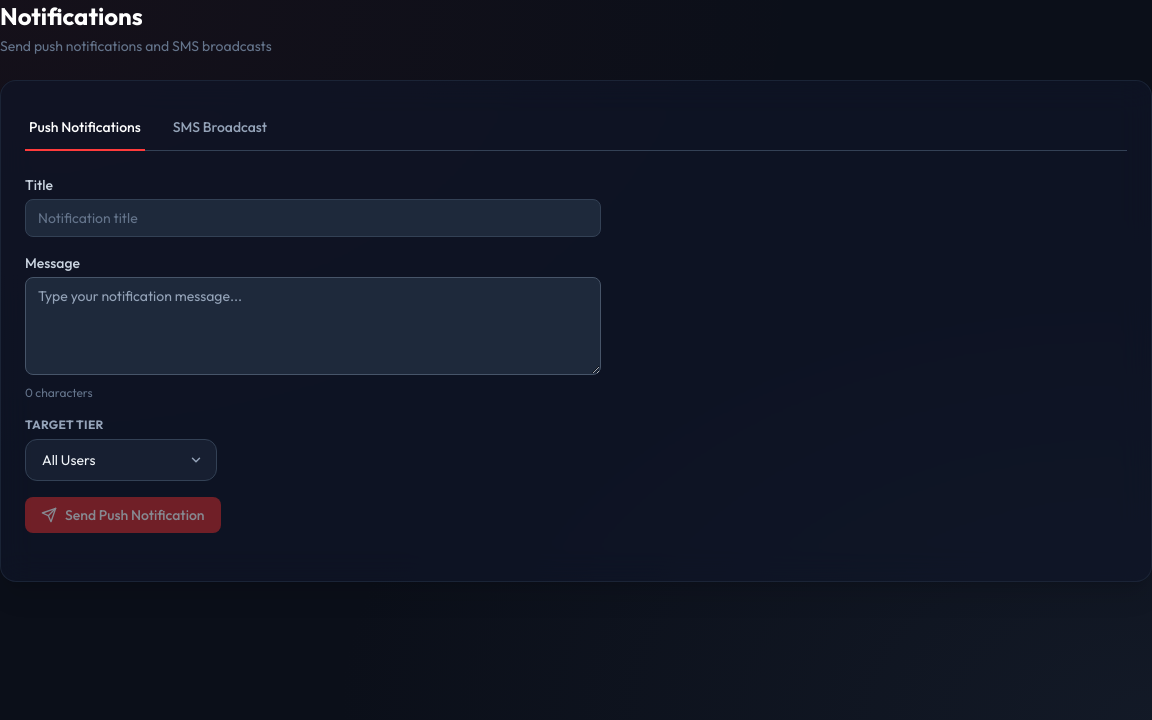
it: NotificationsPage › shows SMS broadcast form when tab clicked
Click the tab "SMS Broadcast" at (220, 128), box [169,105,271,151]
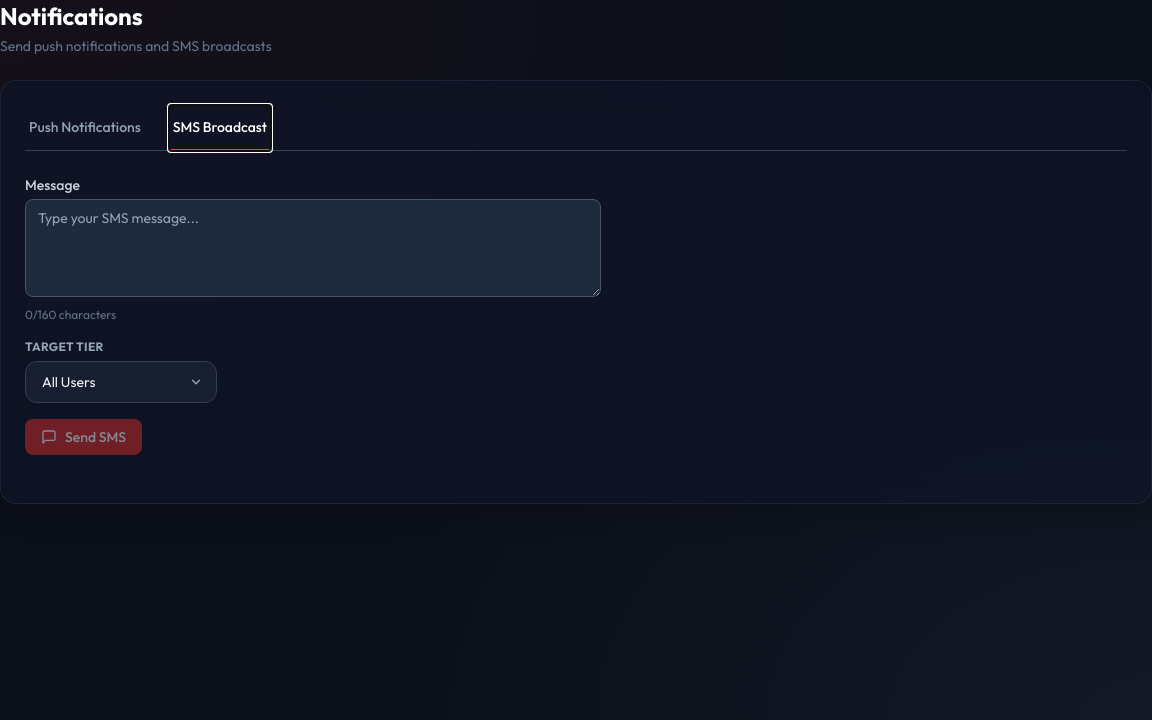
Expected: the button "Send SMS" is shown, [25,419,142,455]
